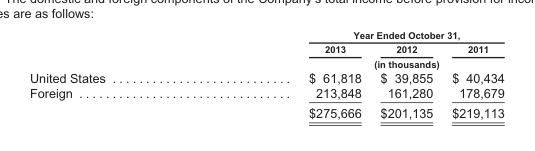table: (28, 28, 503, 119)
table column: (28, 28, 206, 119), (206, 28, 370, 119), (370, 28, 441, 119), (441, 28, 503, 119)
table column header: (28, 28, 503, 69)
table row: (28, 84, 503, 102), (28, 102, 503, 119), (28, 69, 503, 84), (28, 41, 503, 55), (28, 55, 503, 69), (28, 28, 503, 41)
table spanning cell: (206, 55, 503, 69), (206, 28, 503, 41)
